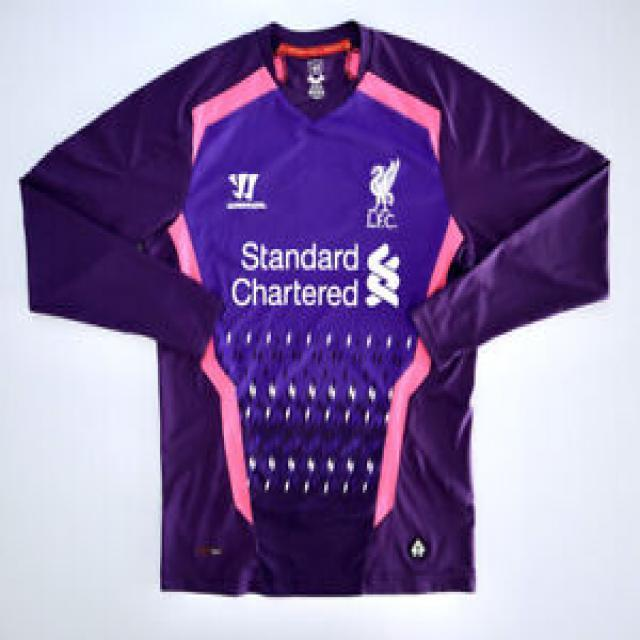Standard Chartered: (233, 241, 401, 308)
